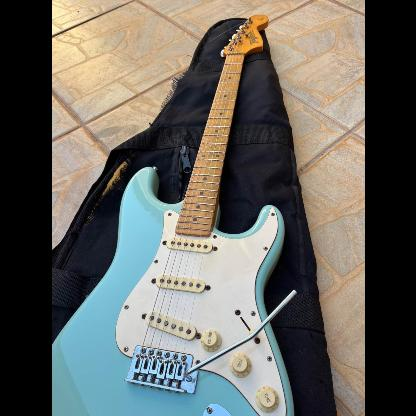guitar: (51, 13, 295, 416)
